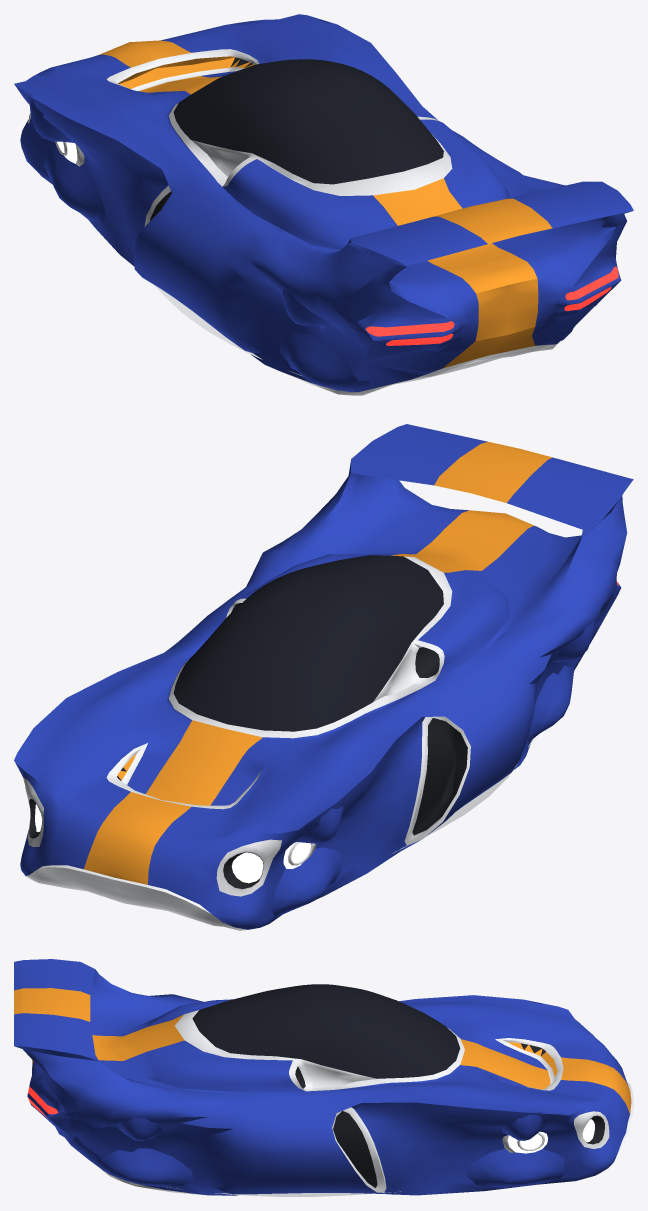
File: buggy-boxarm.glb
3 views of the same model, one above another, from view 1: azimuth 30°, elevation 25°; view 2: azimuth 150°, elevation 25°; view 3: azimuth 270°, elevation 25° (orthographic). The views are drawn at different scales.
Parts seen in each view (by area): view 1: Body.001, Canopy, Sockets; view 2: Body.001, Canopy, Sockets; view 3: Body.001, Canopy, Sockets.
Part boxes in pixels (left/top/right/bottom): Body.001: left=14, top=14, right=633, bottom=395; Canopy: left=173, top=59, right=443, bottom=184; Sockets: left=27, top=19, right=573, bottom=391; Body.001: left=14, top=424, right=633, bottom=930; Canopy: left=173, top=555, right=443, bottom=731; Sockets: left=27, top=621, right=595, bottom=916; Body.001: left=14, top=959, right=633, bottom=1195; Canopy: left=192, top=984, right=460, bottom=1078; Sockets: left=92, top=1001, right=565, bottom=1196.
Size of the model in its own units: 1.89 by 1.16 by 4.01.
